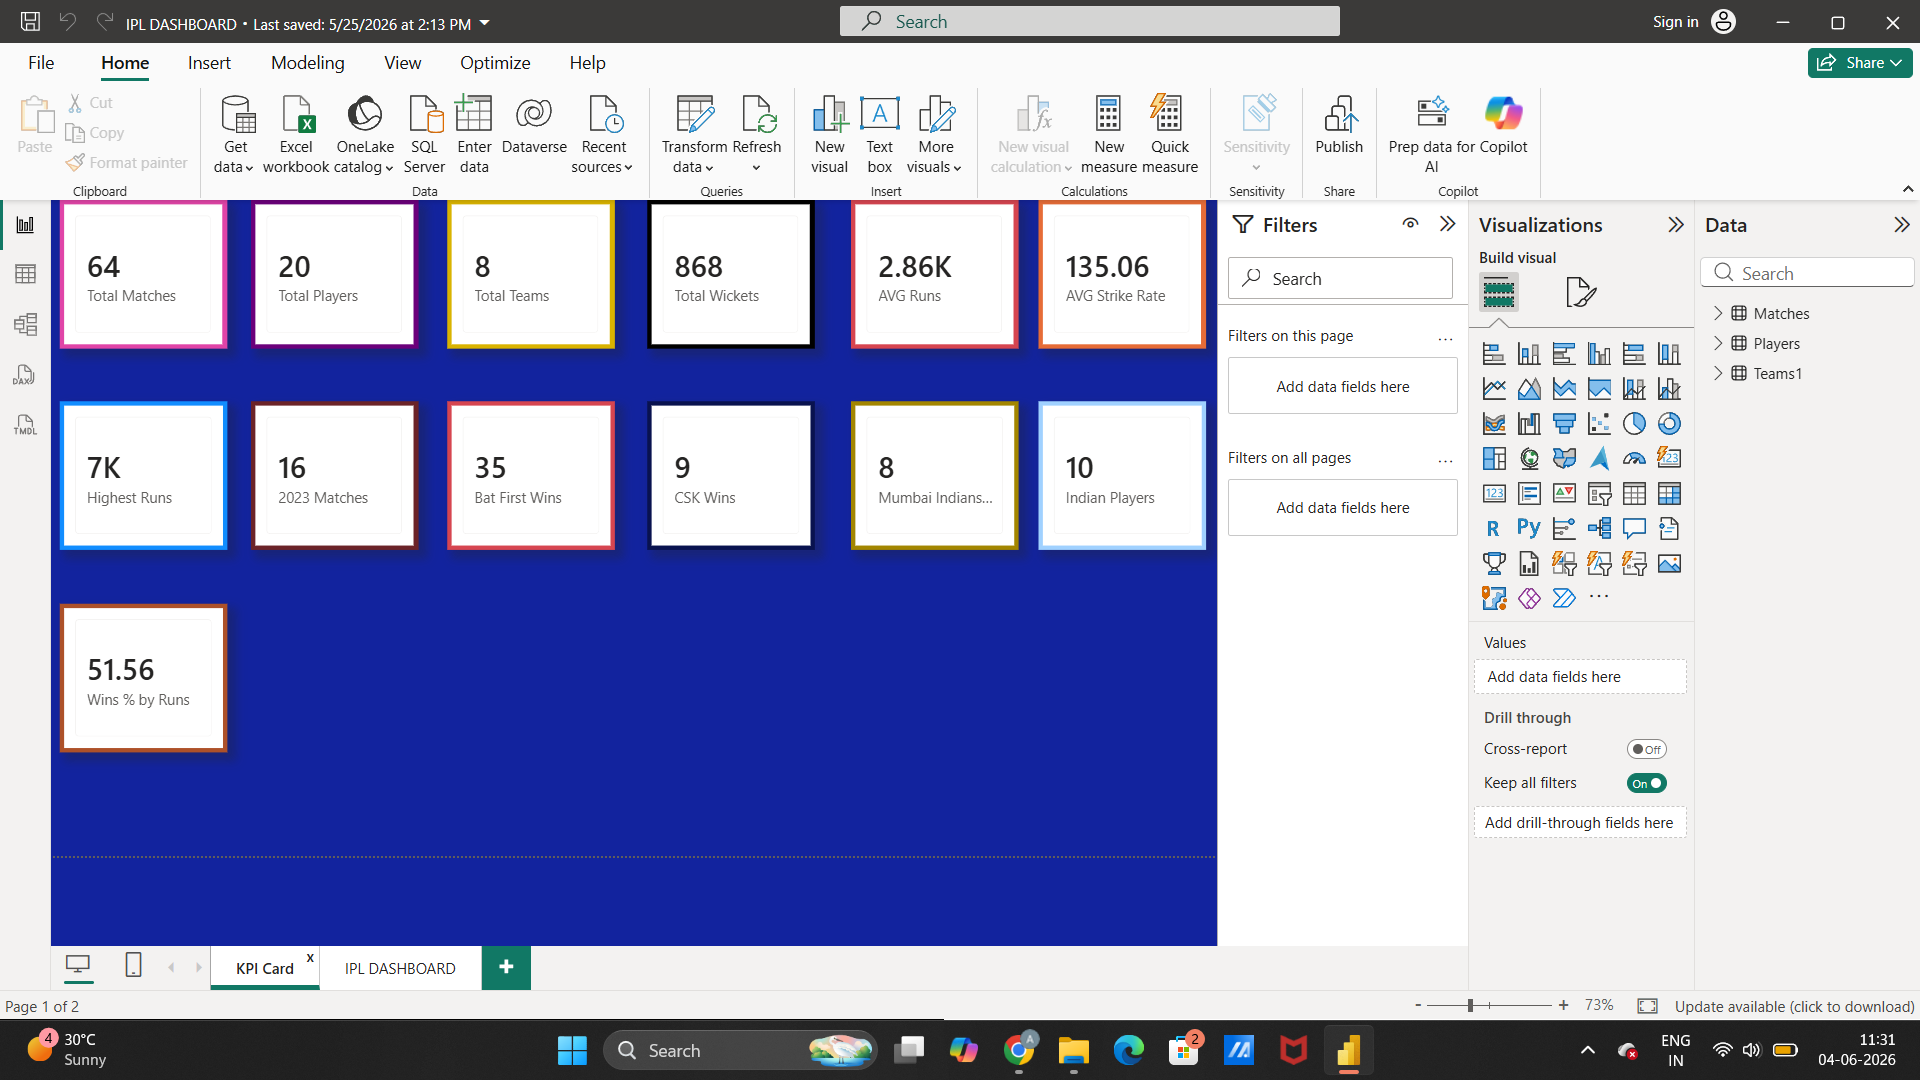

The page's visual inventory and layout, read from the dashboard file:
{"tool":"powerbi","page":{"name":"KPI Card","canvas":[1280,720],"ordinal":0},"visuals":[{"type":"cardVisual","fields":{"Data":["Matches.Total Matches"]},"box":[9.6,0,183.9,163.3],"z":0},{"type":"cardVisual","fields":{"Data":["Matches.Total Players"]},"box":[219.6,0,183.9,163.3],"z":1},{"type":"cardVisual","fields":{"Data":["Matches.Total Teams"]},"box":[435,0,183.9,163.3],"z":2},{"type":"cardVisual","fields":{"Data":["Matches.Total Wickets"]},"box":[654.5,0,183.9,163.3],"z":3},{"type":"cardVisual","fields":{"Data":["Matches.AVG Runs"]},"box":[878.2,0,183.9,163.3],"z":4},{"type":"cardVisual","fields":{"Data":["Matches.AVG Strike Rate"]},"box":[1084.1,0,183.9,163.3],"z":5},{"type":"cardVisual","fields":{"Data":["Matches.Highest Runs"]},"box":[10,221.5,184,163],"z":6},{"type":"cardVisual","fields":{"Data":["Teams1.2023 Matches"]},"box":[219.6,220.9,183.9,163.3],"z":7},{"type":"cardVisual","fields":{"Data":["Teams1.Bat First Wins"]},"box":[435,221,184,163],"z":8},{"type":"cardVisual","fields":{"Data":["Teams1.CSK Wins"]},"box":[655,221,184,163],"z":9},{"type":"cardVisual","fields":{"Data":["Teams1.Mumbai Indians Wins"]},"box":[878,221,184,163],"z":10},{"type":"cardVisual","fields":{"Data":["Teams1.Indian Players"]},"box":[1084,221,184,163],"z":11},{"type":"cardVisual","fields":{"Data":["Teams1.Wins % by Runs"]},"box":[10,443.5,184,163],"z":12}]}

Visuals, with their boxes on the page's 1280x720 design canvas (x1, y1, x2, y2). These are canvas units, not pixel positions in the 1920x1080 screenshot, which may show the page scaled, cropped or inside an application window:
cardVisual - Matches.Total Matches: crop(10, 0, 194, 163)
cardVisual - Matches.Total Players: crop(220, 0, 404, 163)
cardVisual - Matches.Total Teams: crop(435, 0, 619, 163)
cardVisual - Matches.Total Wickets: crop(654, 0, 838, 163)
cardVisual - Matches.AVG Runs: crop(878, 0, 1062, 163)
cardVisual - Matches.AVG Strike Rate: crop(1084, 0, 1268, 163)
cardVisual - Matches.Highest Runs: crop(10, 222, 194, 384)
cardVisual - Teams1.2023 Matches: crop(220, 221, 404, 384)
cardVisual - Teams1.Bat First Wins: crop(435, 221, 619, 384)
cardVisual - Teams1.CSK Wins: crop(655, 221, 839, 384)
cardVisual - Teams1.Mumbai Indians Wins: crop(878, 221, 1062, 384)
cardVisual - Teams1.Indian Players: crop(1084, 221, 1268, 384)
cardVisual - Teams1.Wins % by Runs: crop(10, 444, 194, 606)
